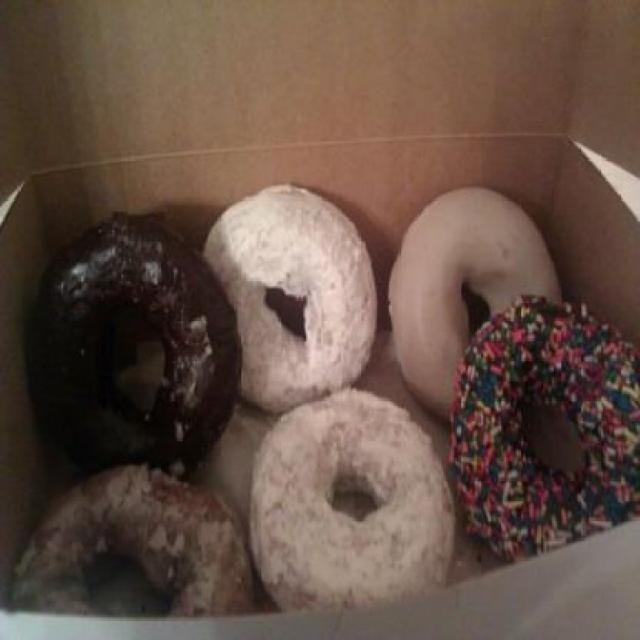Donuts: (1, 180, 640, 608)
